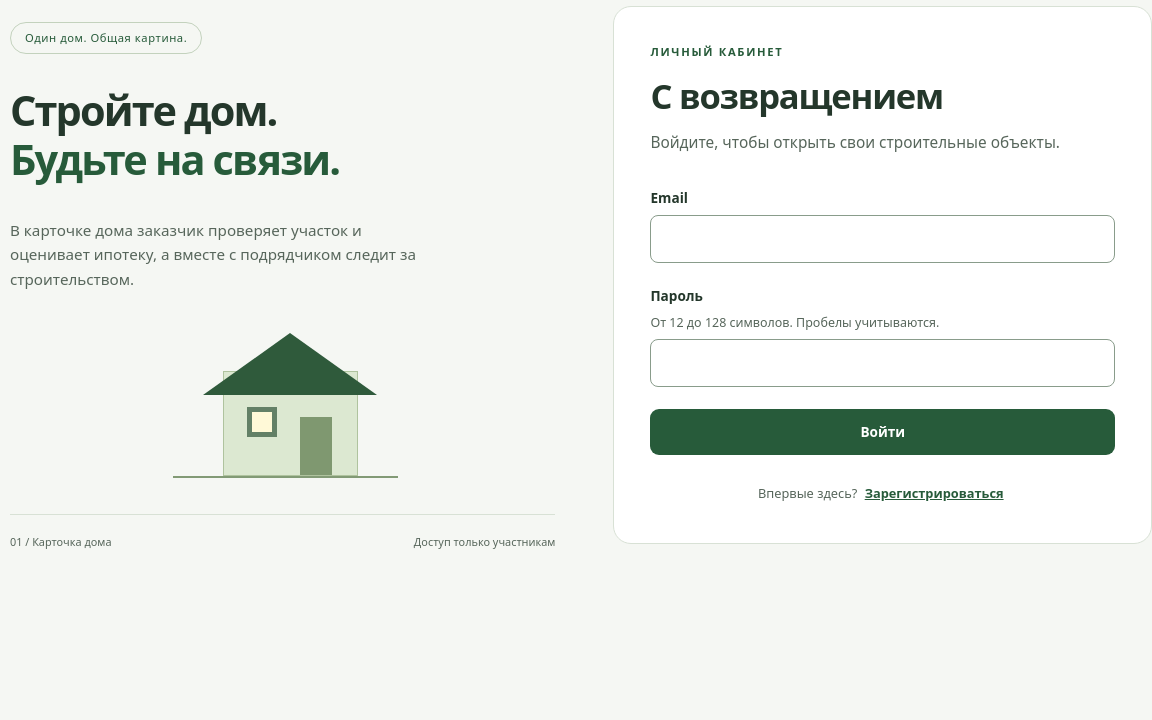
Scenario: Формы и состояния первой итерации › при ошибке входа сохраняет email и очищает пароль
Type "owner@example.test" into the field labelled "Email" at (883, 239), box left=650, top=215, right=1115, bottom=263
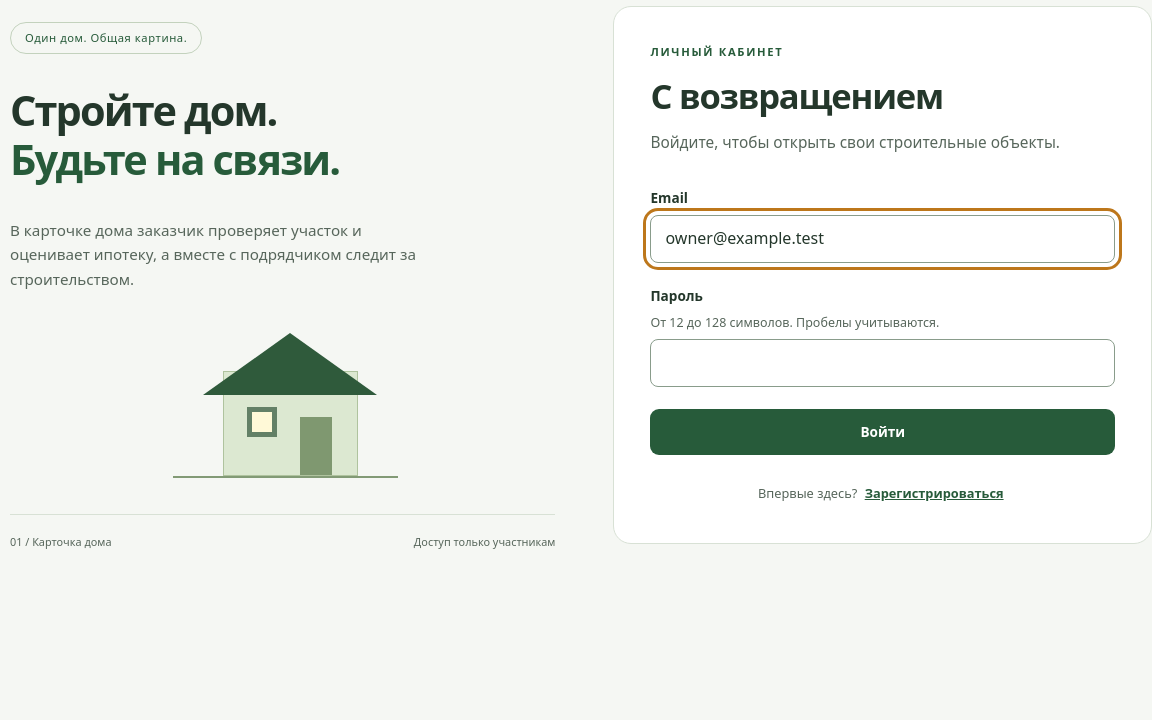
Type "wrong-password-123" into the password field labelled "Пароль" at (883, 363), box left=650, top=339, right=1115, bottom=387
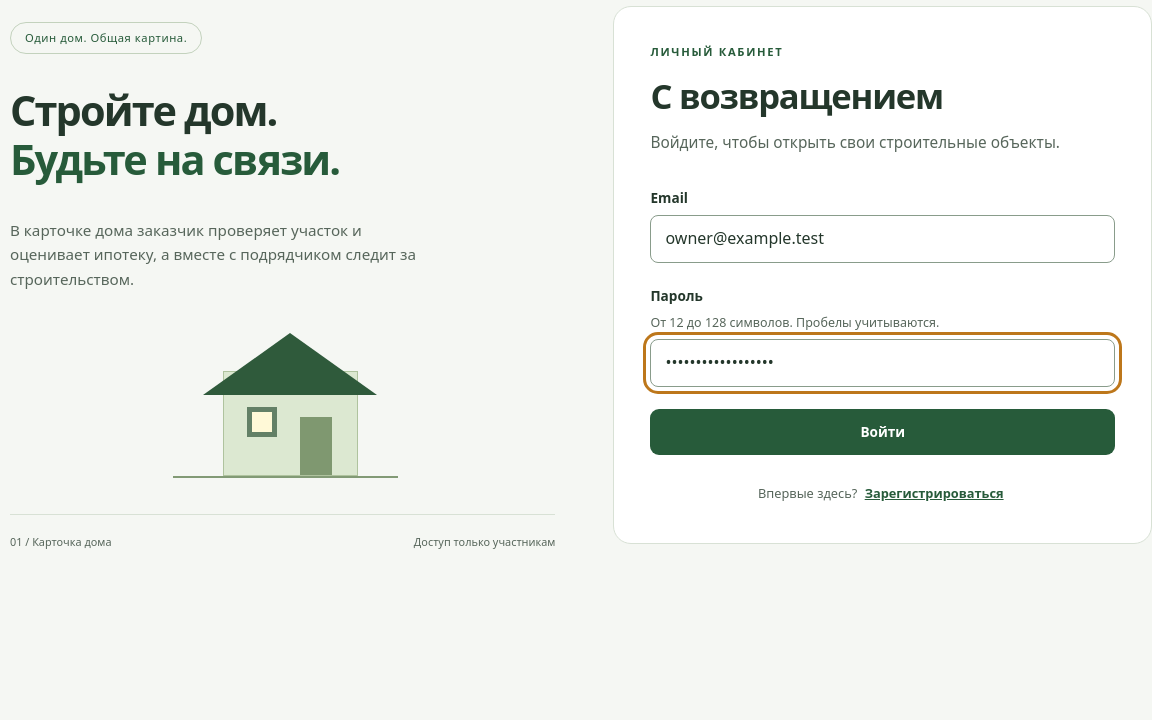
Click the button "Войти" at (883, 432), box left=650, top=409, right=1115, bottom=455
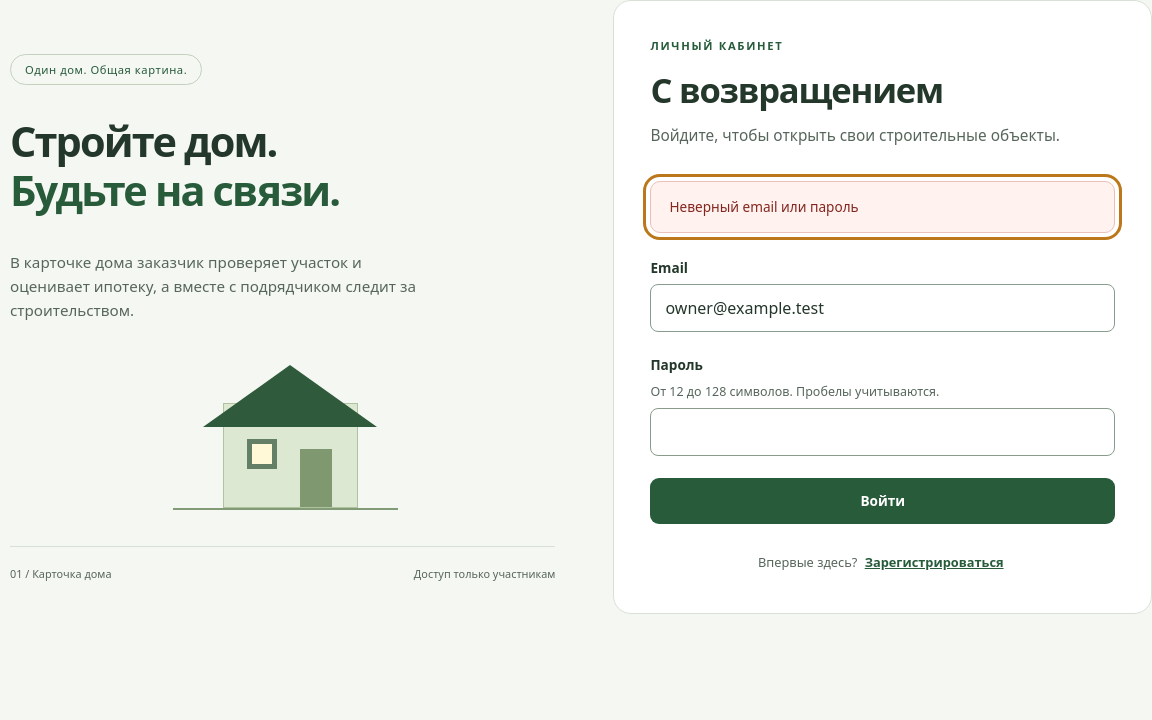
Check: the message shows "Неверный email", box left=670, top=197, right=859, bottom=216
Check: the password field labelled "Пароль" is empty, box left=650, top=408, right=1115, bottom=456
